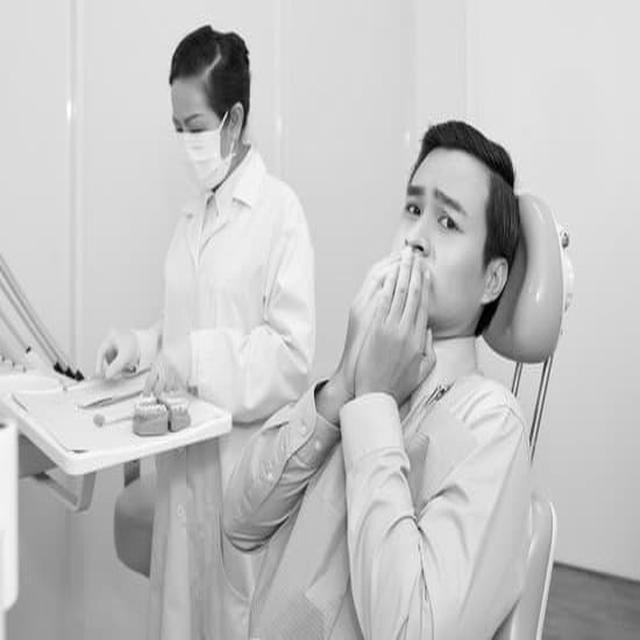Fear: (394, 147, 482, 330)
